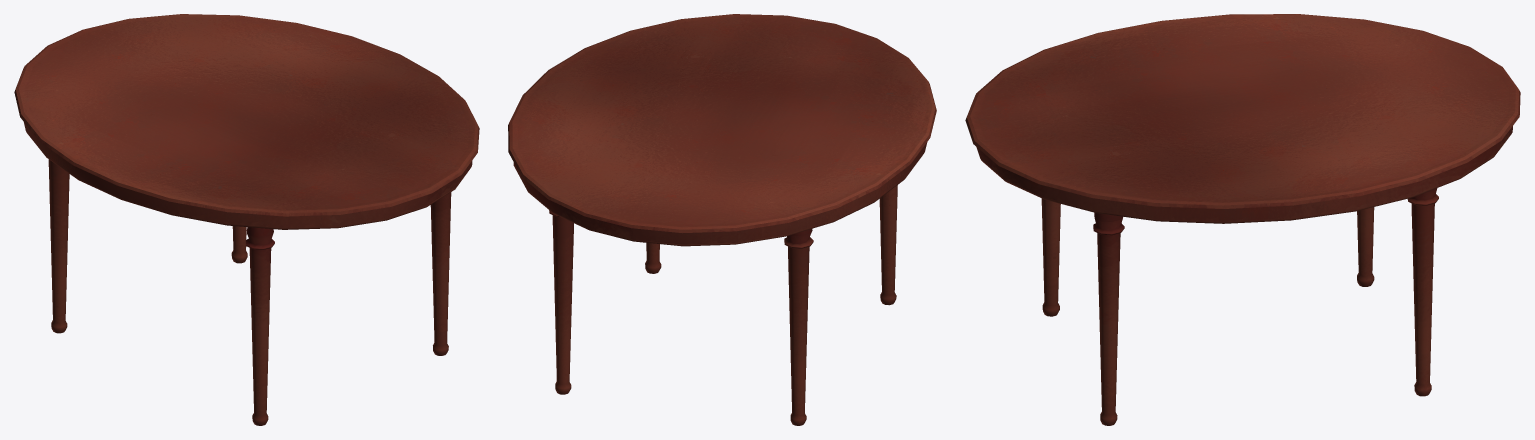
The model's file is 08_Lv1 Table.fbx.
The picture shows the model from 3 angles, left to right: view 1: azimuth 30°, elevation 25°; view 2: azimuth 150°, elevation 25°; view 3: azimuth 270°, elevation 25°; orthographic projection. The views are drawn at different scales.
Visible parts, largest first — view 1: Table; view 2: Table; view 3: Table.
Boxes of the visible parts, <box> form: Table: <box>14,14,479,425</box>; Table: <box>508,14,936,425</box>; Table: <box>965,14,1520,425</box>.
Bounding box in the file's own units: 2515 × 1496 × 3062.
